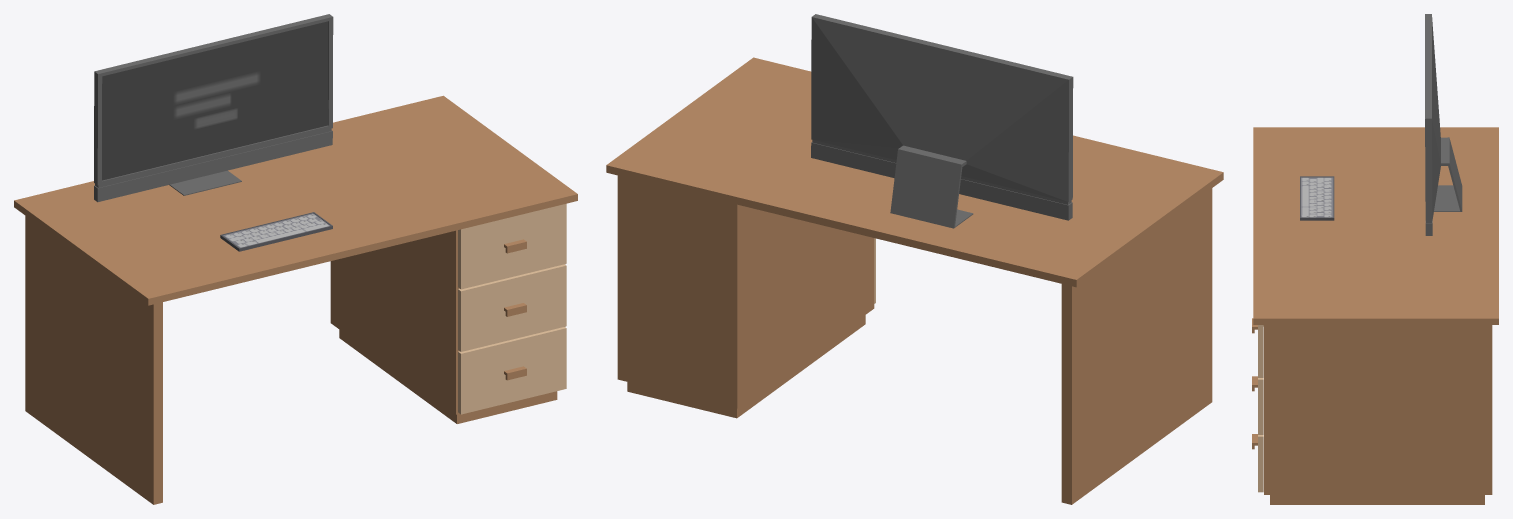
Rendered from table.fbx.
The picture shows the model from 3 angles, left to right: view 1: azimuth 30°, elevation 25°; view 2: azimuth 150°, elevation 25°; view 3: azimuth 270°, elevation 25°; orthographic projection. The views are drawn at different scales.
Visible parts, largest first — view 1: Table, PC, Clava; view 2: Table, PC; view 3: Table, PC, Clava.
Part boxes in pixels (x1,y1,x2,y2): Table: [14, 95, 577, 504]; PC: [94, 14, 333, 202]; Clava: [220, 212, 332, 251]; Table: [606, 57, 1223, 504]; PC: [811, 14, 1073, 228]; Table: [1252, 127, 1498, 504]; PC: [1425, 14, 1462, 235]; Clava: [1300, 176, 1334, 220].
Bounding box in the file's own units: 143 × 113 × 78.07.
